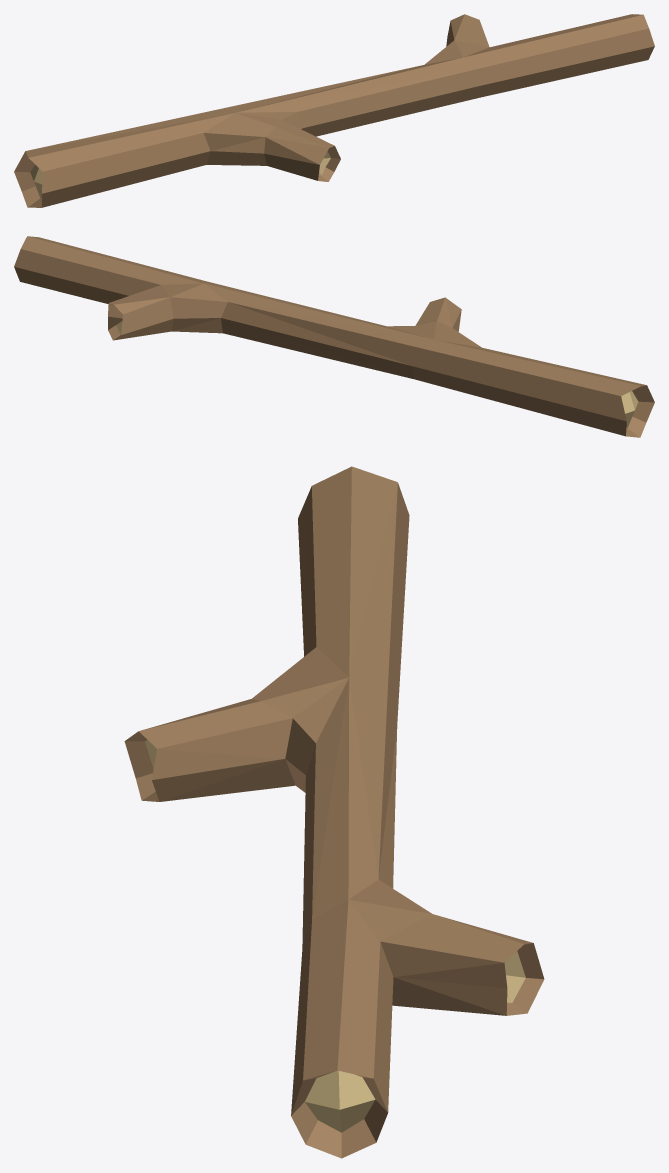
The model's file is trunk2.fbx.
3 renders of one model, top to bottom at view 1: azimuth 30°, elevation 25°; view 2: azimuth 150°, elevation 25°; view 3: azimuth 270°, elevation 25°, orthographic. The views are drawn at different scales.
Parts seen in each view (by area): view 1: trunk2; view 2: trunk2; view 3: trunk2.
Part boxes in pixels (x1,y1,x2,y2): trunk2: [14, 14, 654, 207]; trunk2: [14, 236, 654, 437]; trunk2: [124, 466, 544, 1158].
Bounding box in the file's own units: 81.29 × 6.42 × 24.15.
